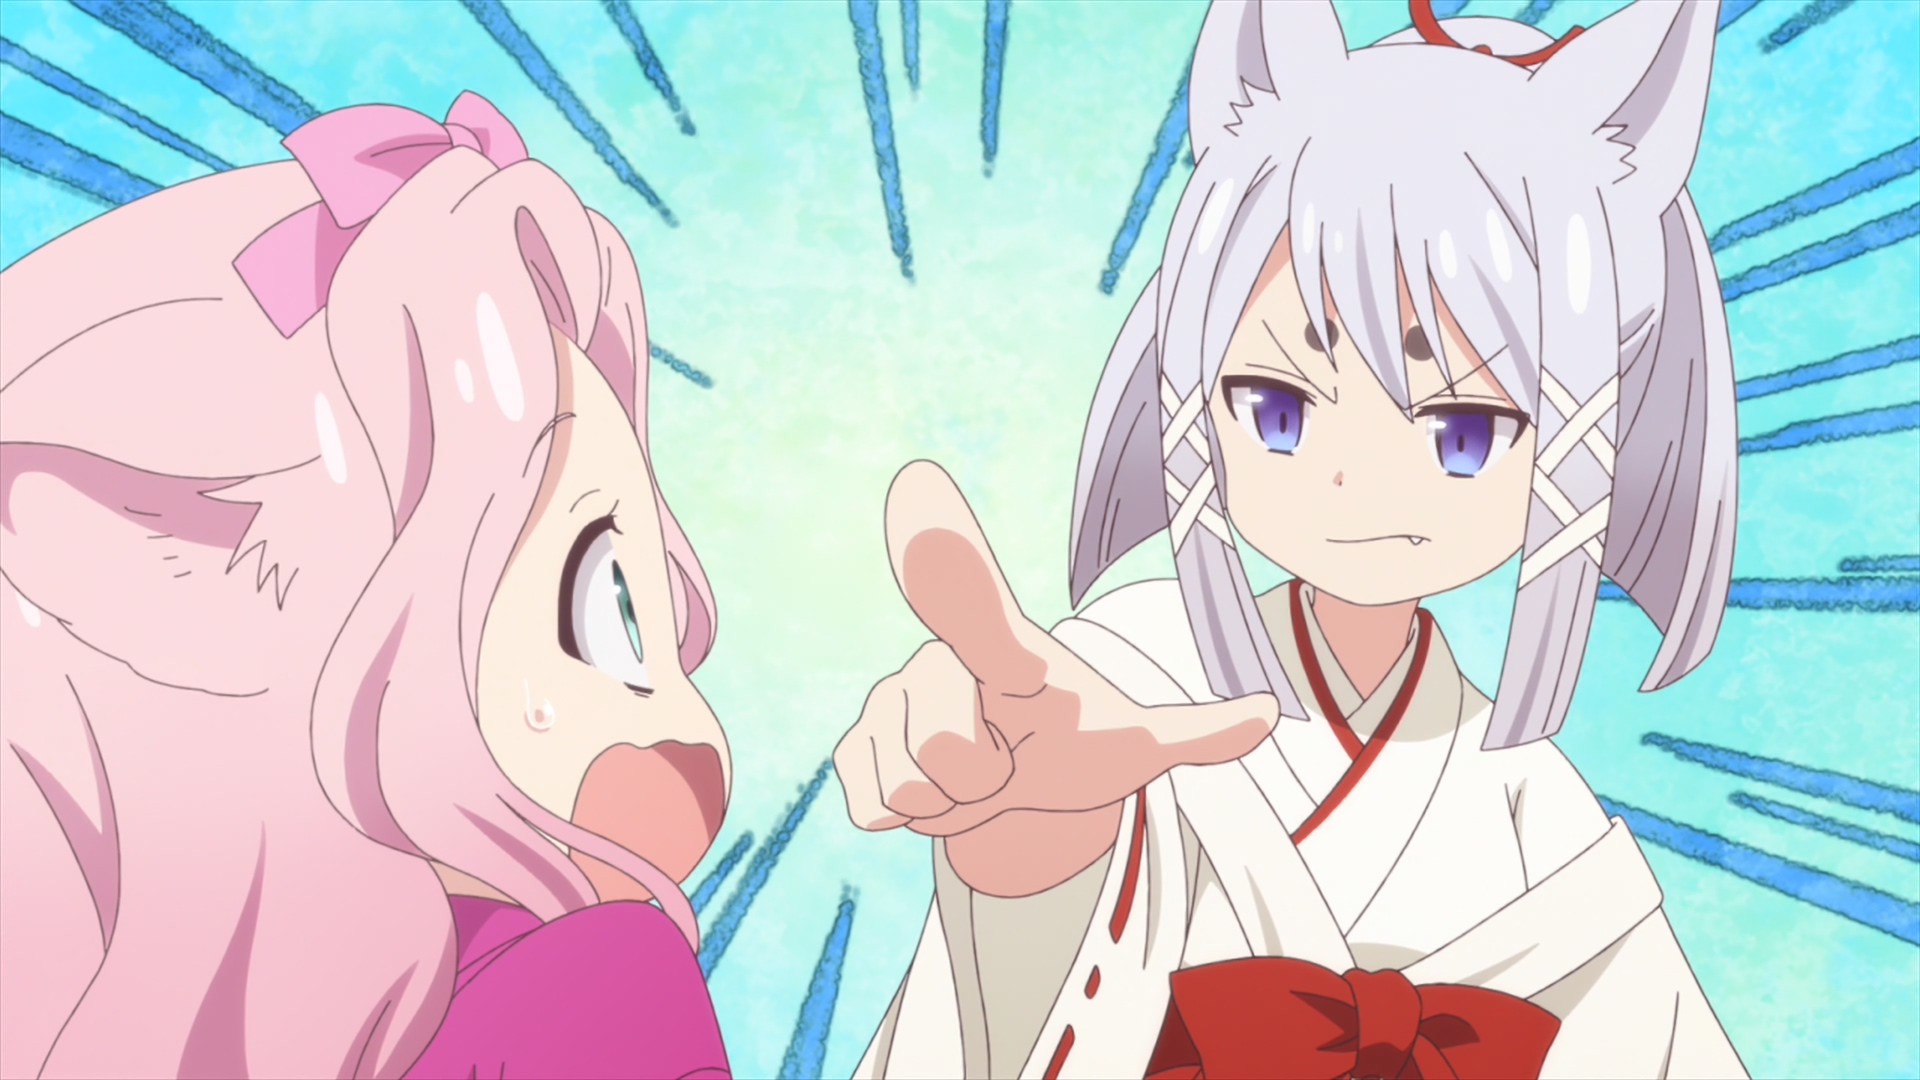柊: (829, 1, 1751, 1080)
莲: (1, 90, 733, 1080)
